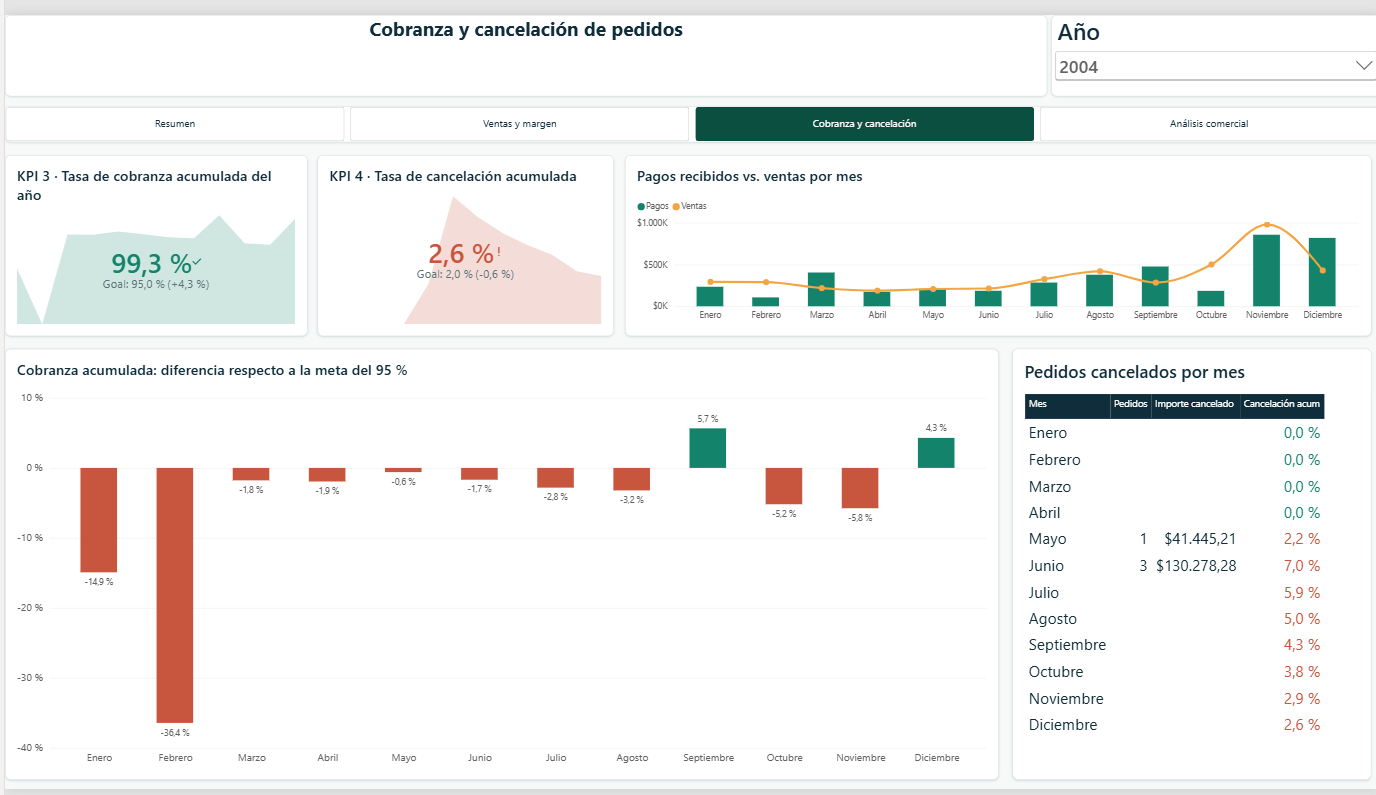

What the dashboard file says about the page in this screenshot:
{"tool":"powerbi","page":{"name":"Cobranza y cancelación","canvas":[1920,1080],"ordinal":2},"visuals":[{"type":"textbox","box":[0,0,1454.7,113.4],"z":0},{"type":"kpi","title":"KPI 3 · Tasa de cobranza acumulada del año","fields":{"Goal":["Medidas.Meta cobranza"],"Indicator":["Medidas.Cobranza acumulada %"],"TrendLine":["DIM_FECHA.NOMBRE_MES"]},"box":[0,195.3,422.1,252.9],"z":1000},{"type":"kpi","title":"KPI 4 · Tasa de cancelación acumulada","fields":{"Goal":["Medidas.Meta cancelación"],"Indicator":["Medidas.Cancelación acumulada %"],"TrendLine":["DIM_FECHA.NOMBRE_MES"]},"box":[436,195.3,413.4,252.9],"z":2000},{"type":"lineClusteredColumnComboChart","title":"Pagos recibidos vs. ventas por mes","fields":{"Category":["DIM_FECHA.NOMBRE_MES"],"Y":["Medidas.Pagos"],"Y2":["Medidas.Ventas"]},"box":[865.1,195.3,1041.3,252.9],"z":3000},{"type":"clusteredColumnChart","title":"Cobranza acumulada: diferencia respecto a la meta del 95 %","fields":{"Category":["DIM_FECHA.NOMBRE_MES"],"Y":["Medidas.Diferencia cobranza"]},"box":[0,465.7,1386.6,601.7],"z":4000},{"type":"tableEx","title":"Pedidos cancelados por mes","fields":{"Values":["DIM_FECHA.NOMBRE_MES","Medidas.Pedidos cancelados","Medidas.Ventas canceladas","Medidas.Cancelación acumulada %"]},"box":[1405.8,465.7,500.6,601.7],"z":5000},{"type":"pageNavigator","box":[0,127.3,1920.4,50.6],"z":6000},{"type":"slicer","fields":{"Values":["DIM_FECHA.ANIO"]},"box":[1459.5,0,460.5,113.4],"z":7000}]}

Visuals, with their boxes in screenshot pixels (x1, y1, x2, y2), scaled from the page's 1920x1080 canvas onto the 1376x795 screenshot:
textbox: (0,0,1043,83)
"KPI 3 · Tasa de cobranza acumulada del año" kpi: (0,144,303,330)
"KPI 4 · Tasa de cancelación acumulada" kpi: (312,144,609,330)
"Pagos recibidos vs. ventas por mes" lineClusteredColumnComboChart: (620,144,1366,330)
"Cobranza acumulada: diferencia respecto a la meta del 95 %" clusteredColumnChart: (0,343,994,786)
"Pedidos cancelados por mes" tableEx: (1007,343,1366,786)
pageNavigator: (0,94,1375,131)
slicer - DIM_FECHA.ANIO: (1046,0,1375,83)
